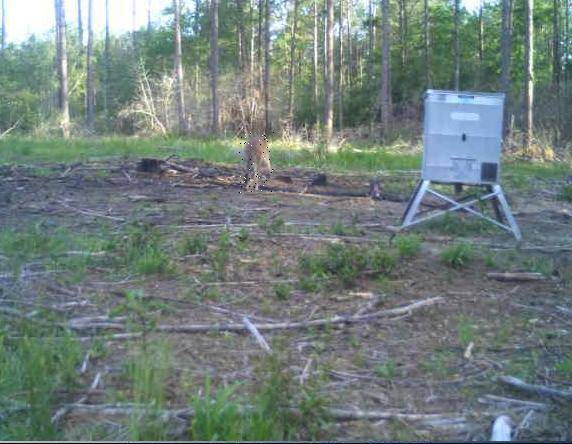Deer: (238, 132, 275, 193)
